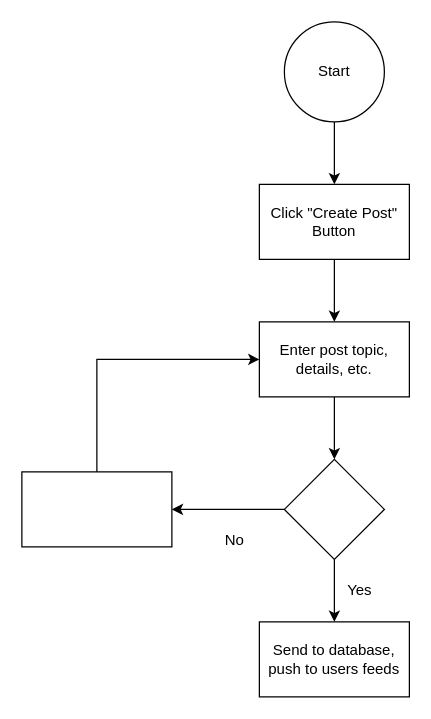
Image size: 431x719. Some labels were removed from this diagram. Here are the shapes that lost their labels. From the top down, the box of each, then its label:
(21, 471, 172, 547): Throw error
(283, 458, 384, 559): Does post contain -inator
